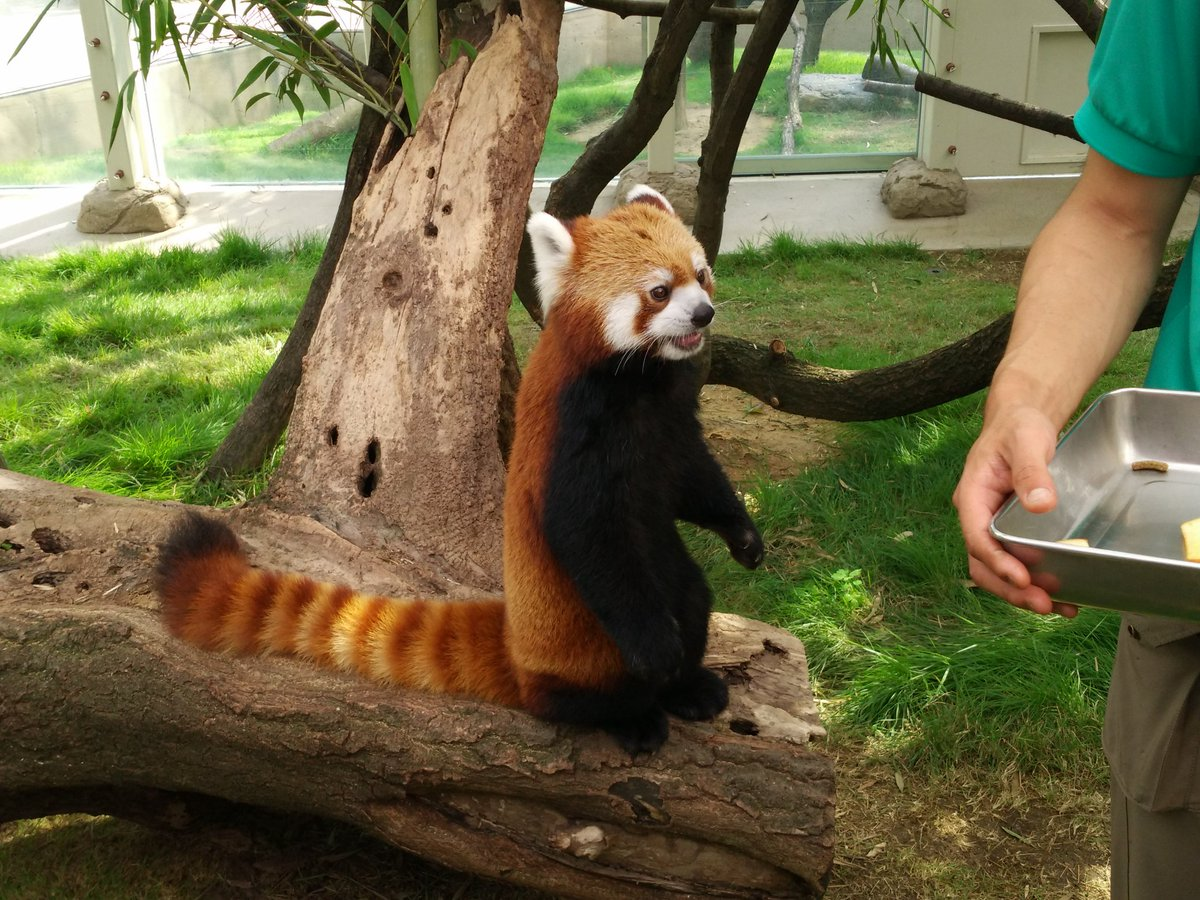redPanda: (142, 156, 746, 746)
